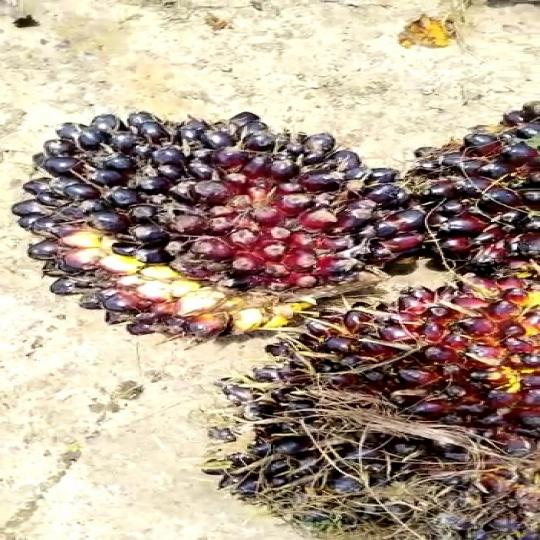mentah: (16, 104, 377, 349), (185, 282, 540, 530), (319, 79, 540, 299)
